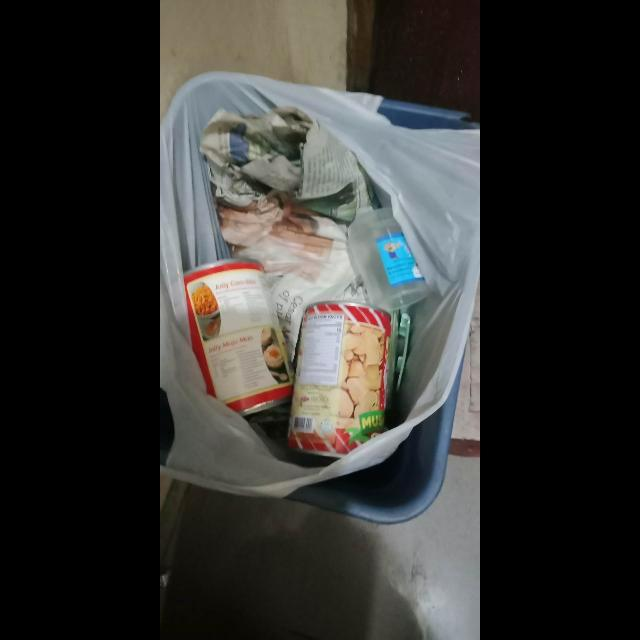aluminum: (183, 259, 293, 417), (287, 302, 392, 459)
paper: (199, 106, 383, 222)
plastic_container: (347, 207, 428, 311)
